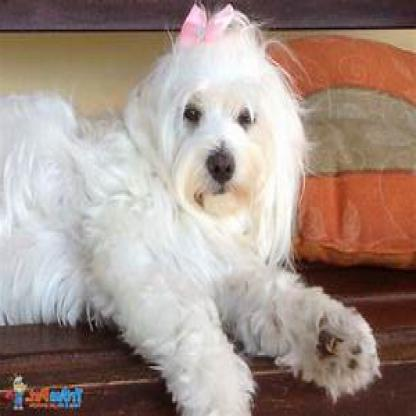dog: (1, 17, 335, 408)
